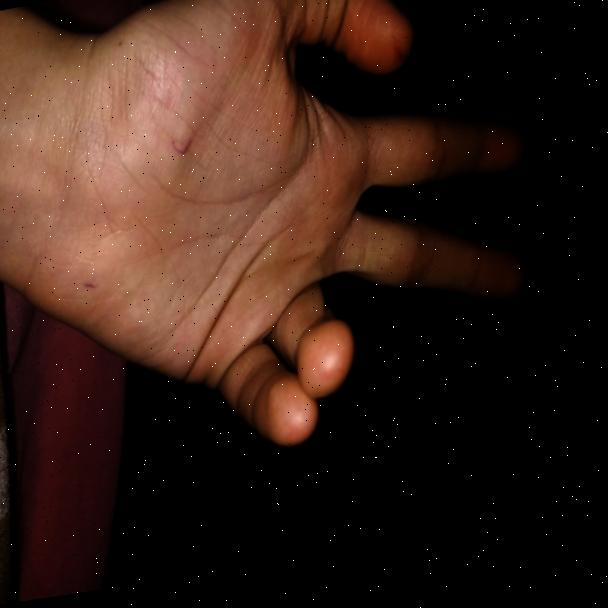three: (43, 0, 545, 498)
